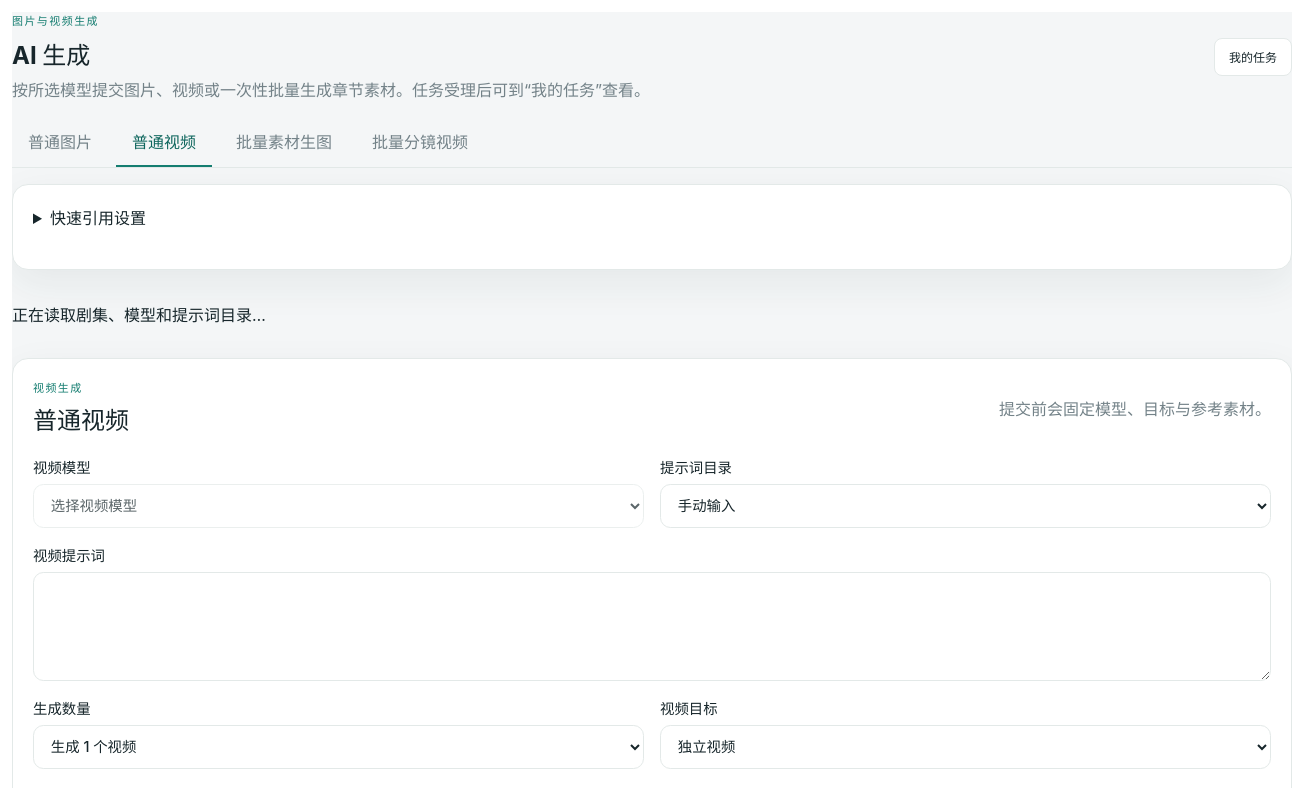
Test: MediaGenerationPage › keeps a prompt typed before the model catalog finishes loading
The image size is (1304, 788).
Step 1. Type "目录加载时输入的内容" into the text box labelled "视频提示词" → (652, 626), box [33, 572, 1271, 681]
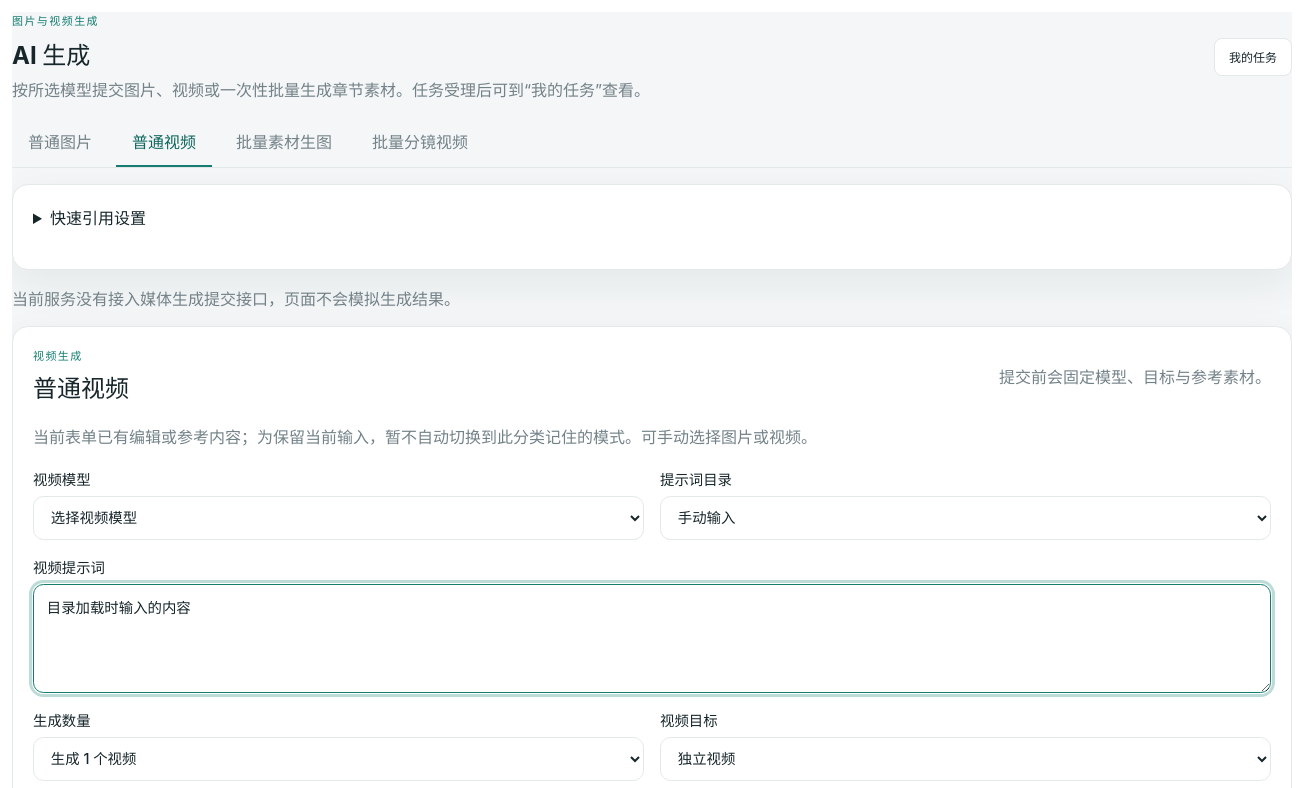
Expected: the text "当前表单已有编辑或参考内容；为保留当前输入，暂不自动切换到此分类记住的模式。可手动选择图片或视频。" is shown, [33, 427, 817, 447]
